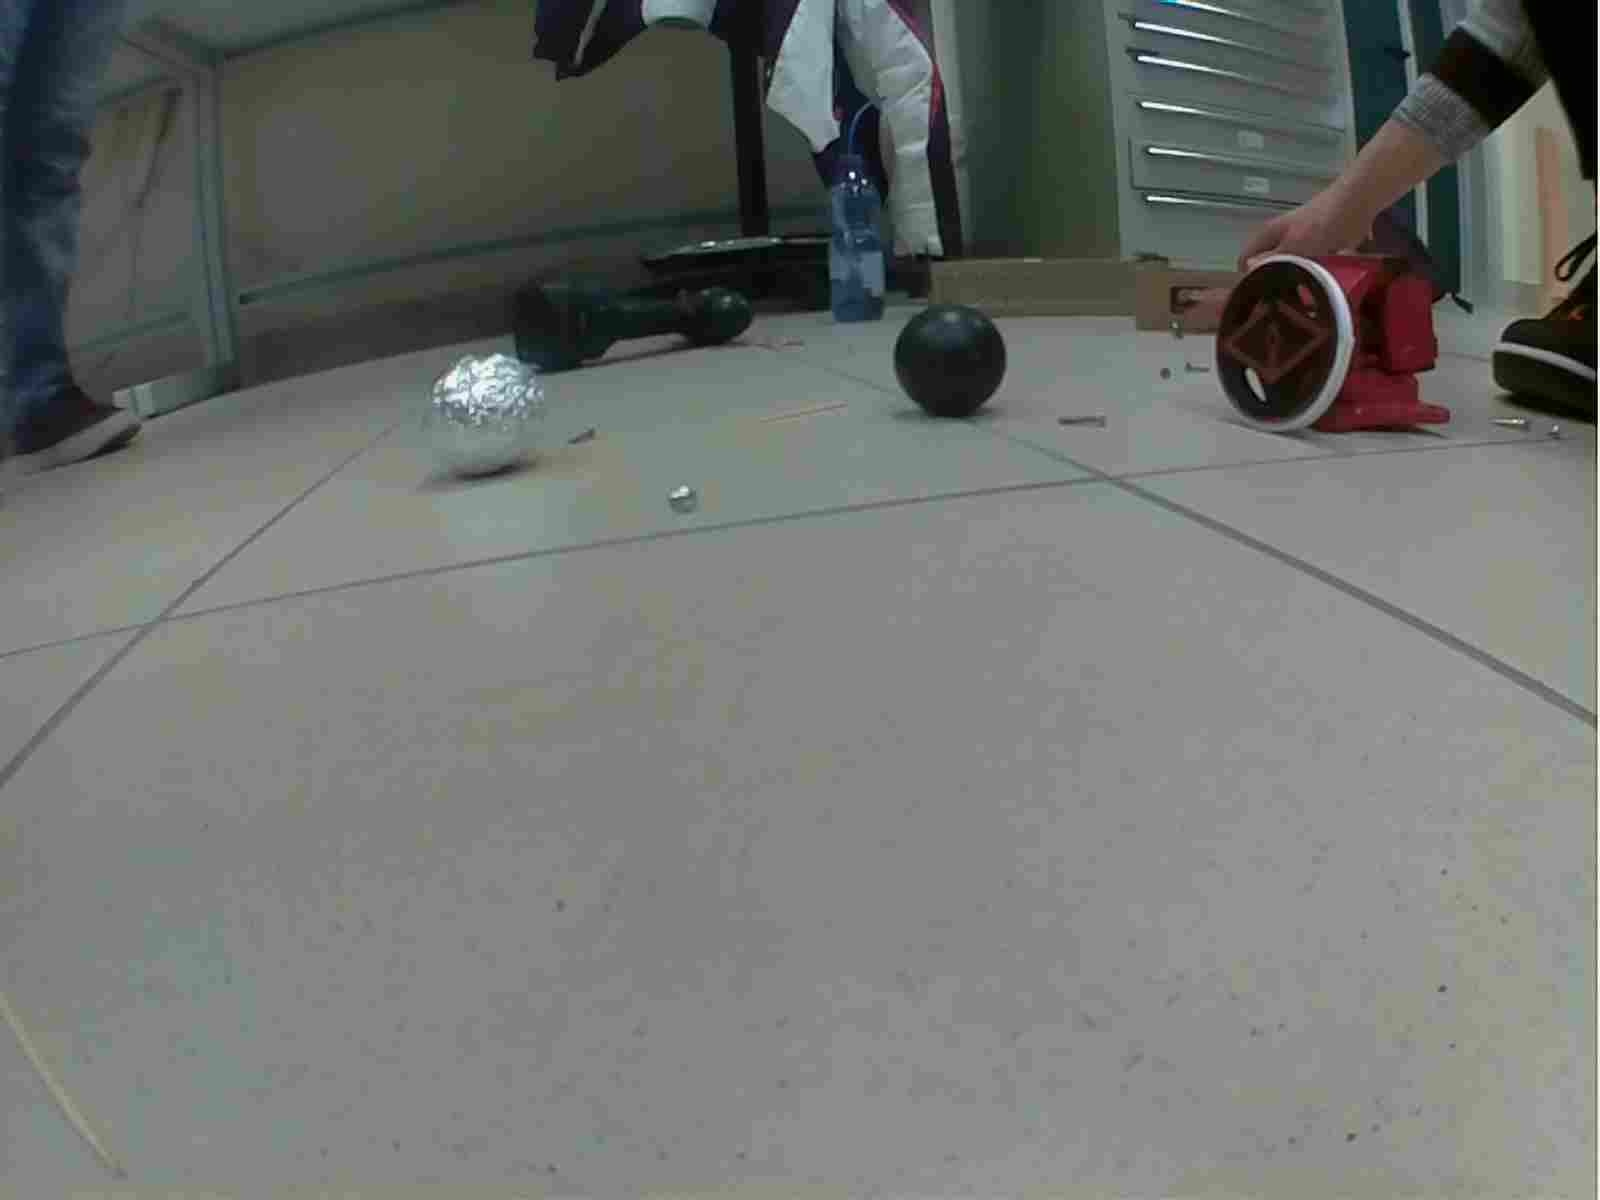bianca: (420, 350, 544, 482)
nera: (888, 299, 1008, 413)
